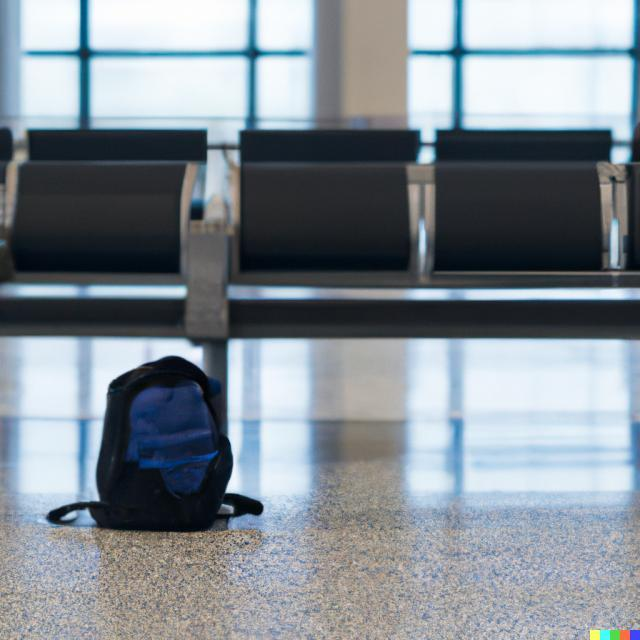Backpacks: (98, 346, 236, 536)
